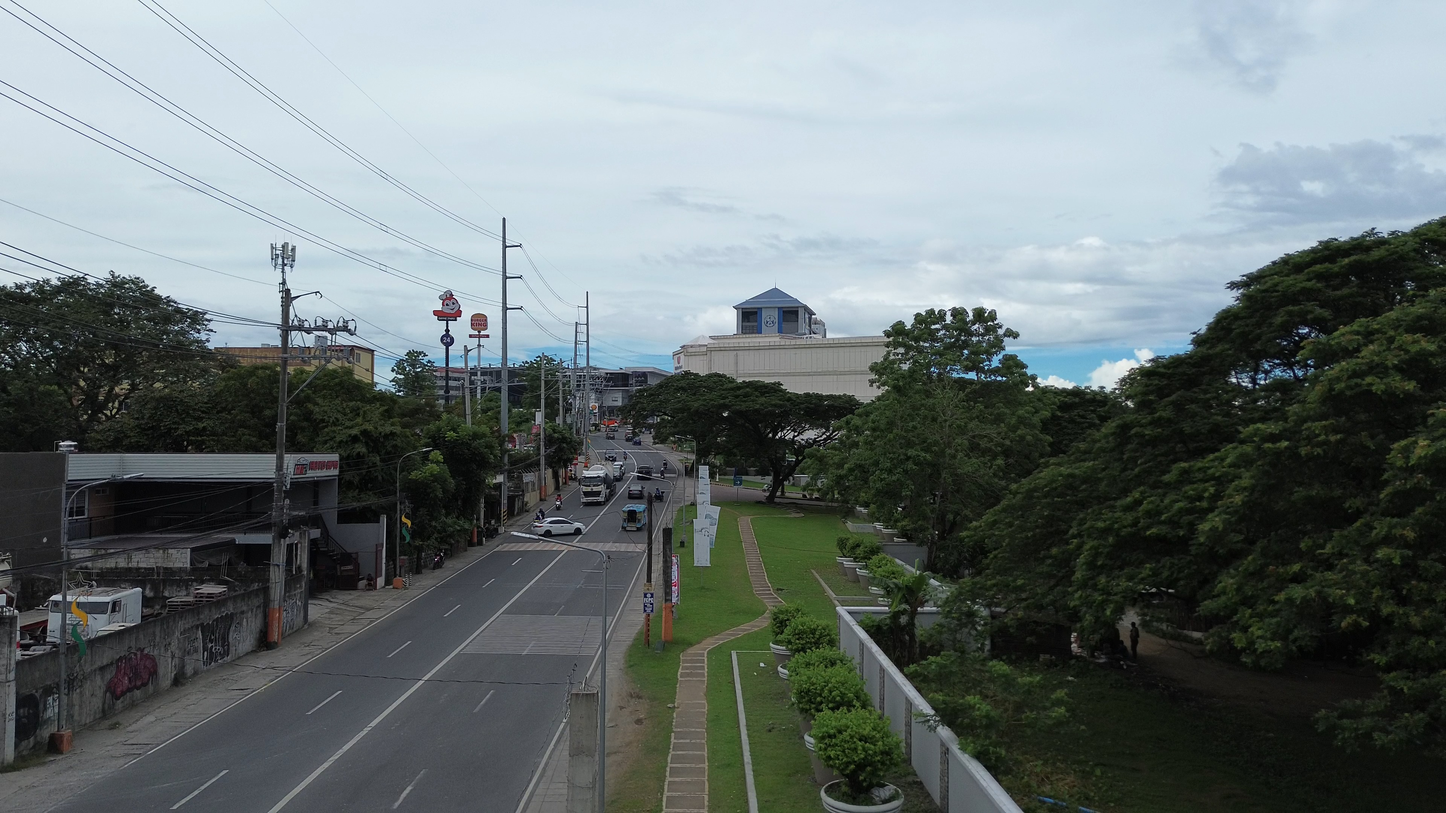car: (532, 517, 586, 536), (604, 450, 617, 461), (605, 431, 615, 440), (632, 437, 641, 445)
vehicle: (67, 587, 141, 639), (580, 466, 615, 504), (621, 504, 646, 530), (626, 484, 645, 499), (636, 464, 652, 480), (612, 462, 624, 479), (604, 450, 617, 461), (605, 431, 616, 440), (631, 437, 642, 446)
